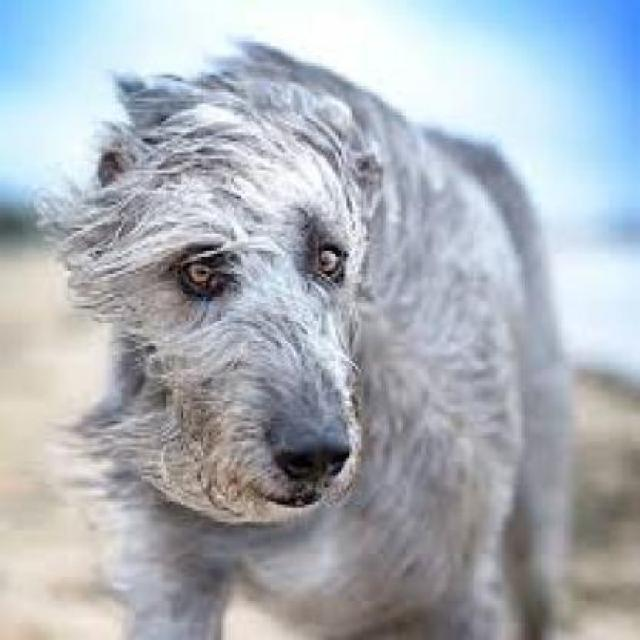animals: (14, 12, 600, 640)
